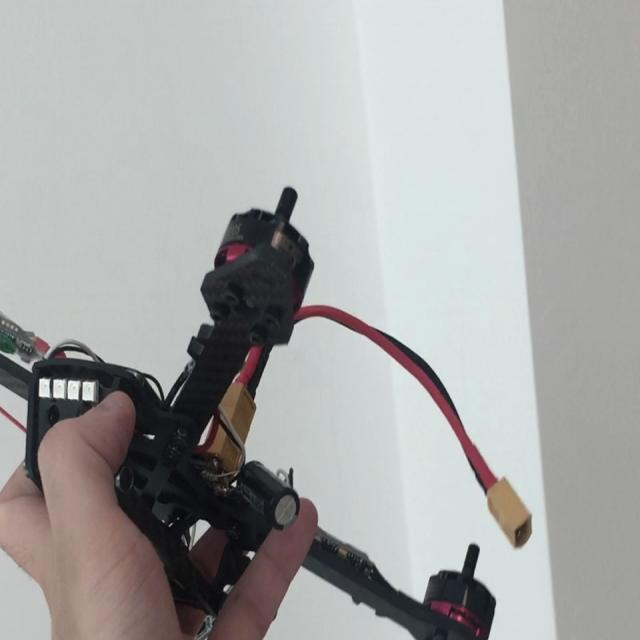drone: (0, 69, 538, 640)
